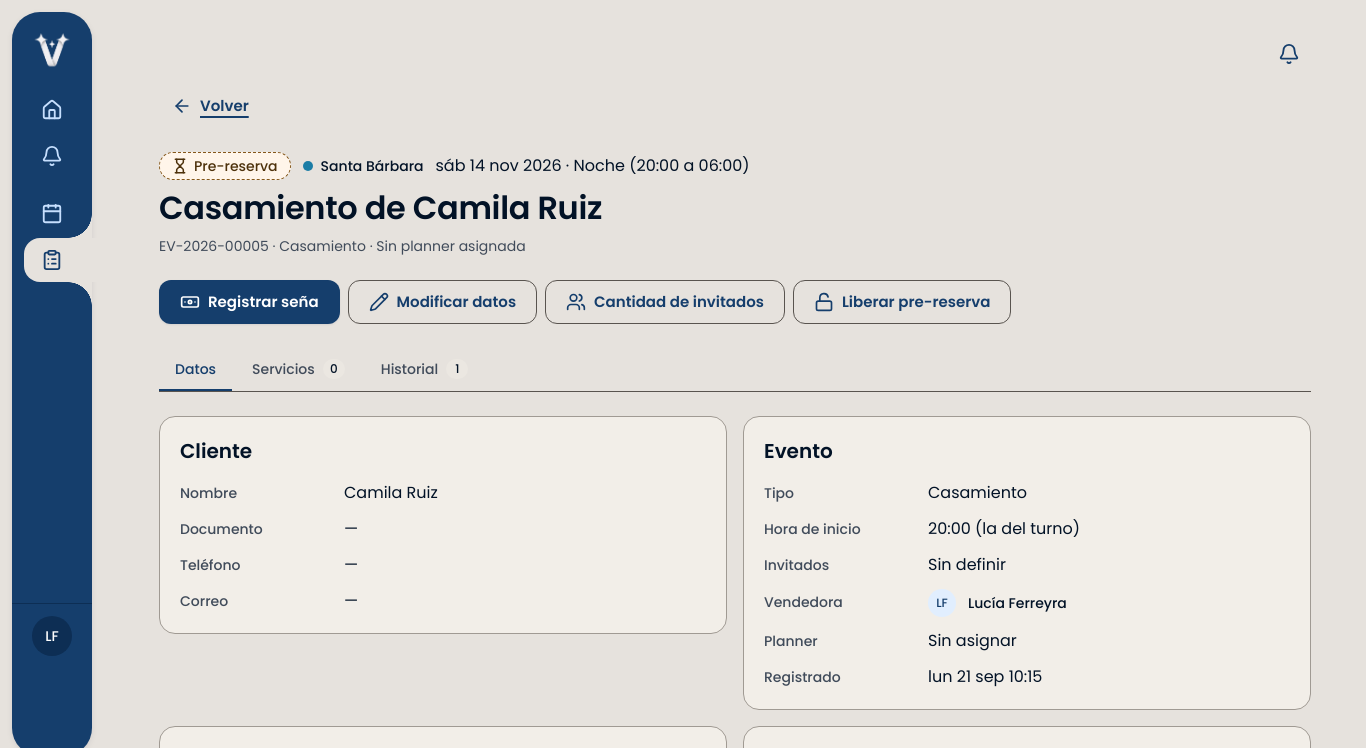
Test: UI-11 · registrar seña › registra la seña y la ficha pasa a Señado
Click the button "Registrar seña" at (249, 302), box [159,280,340,324]
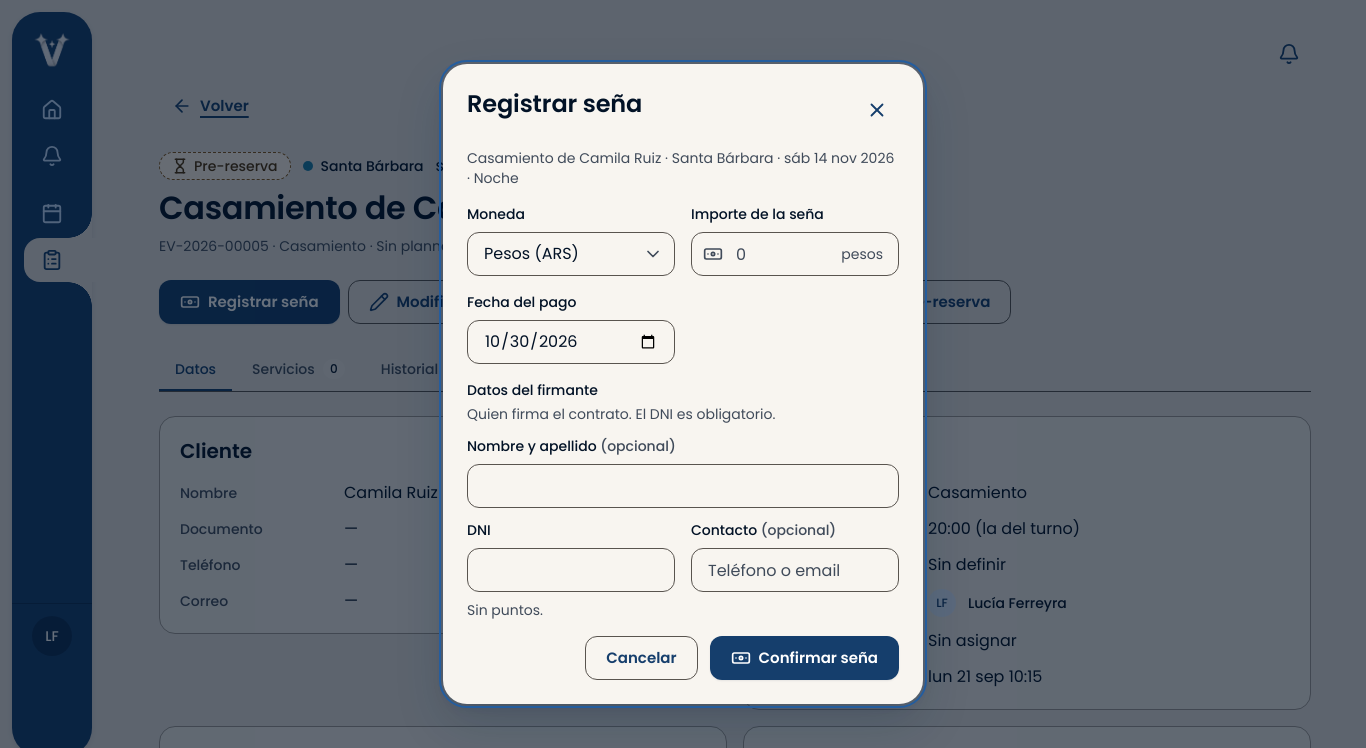
Result: the date field labelled "Fecha del pago" holds "2026-10-30" at [467,320,675,364]
Type "150.000,50" into the field labelled "Importe de la seña" at (795, 254), box [691,232,899,276]
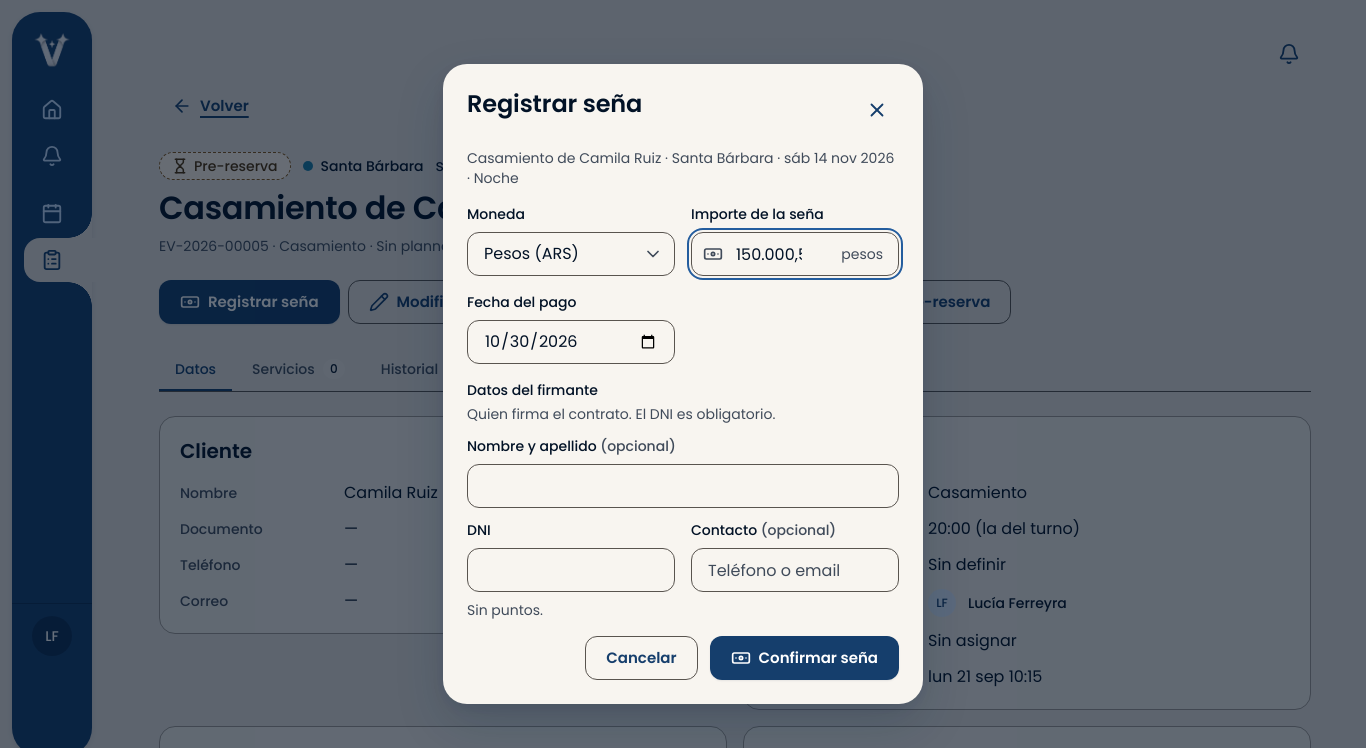
Type "Mariela Ruiz" into the field labelled "Nombre y apellido (opcional)" at (683, 486), box [467,464,899,508]
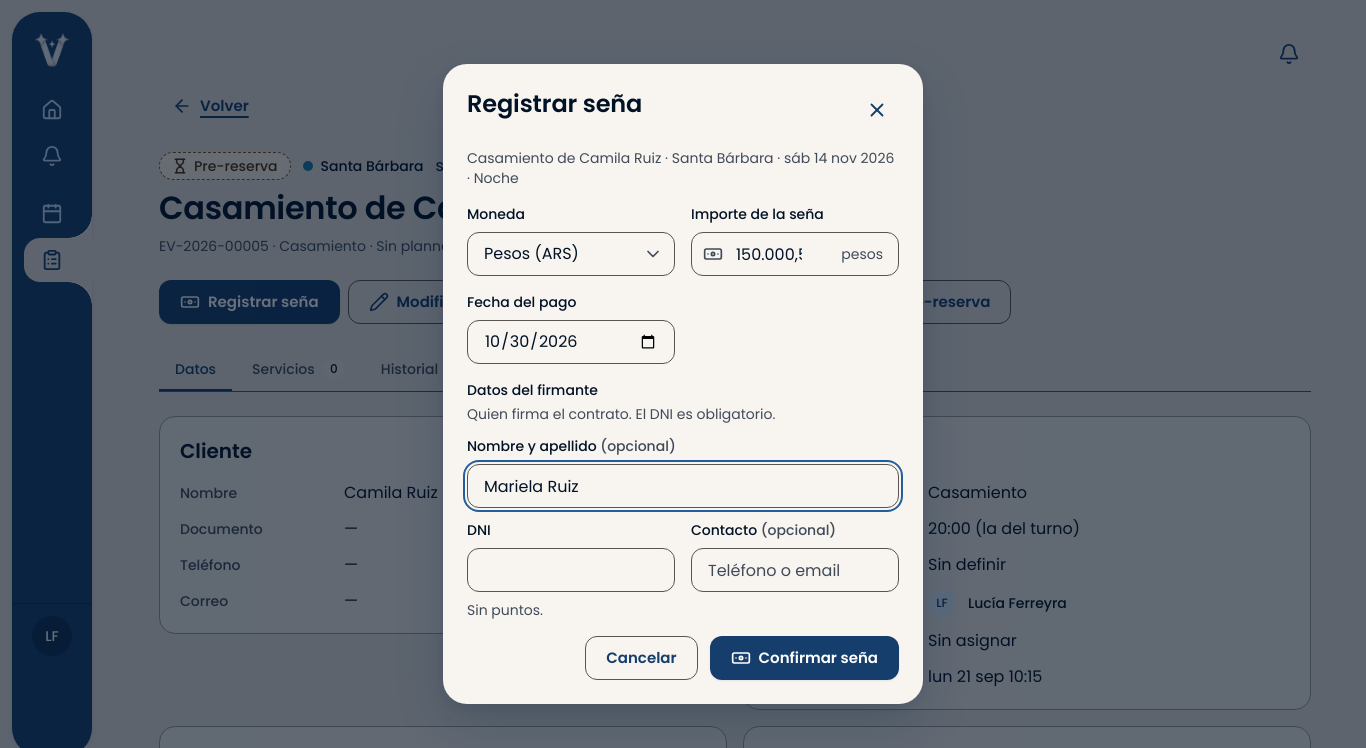
Type "30.111.222" into the field labelled "DNI" at (571, 570), box [467,548,675,592]
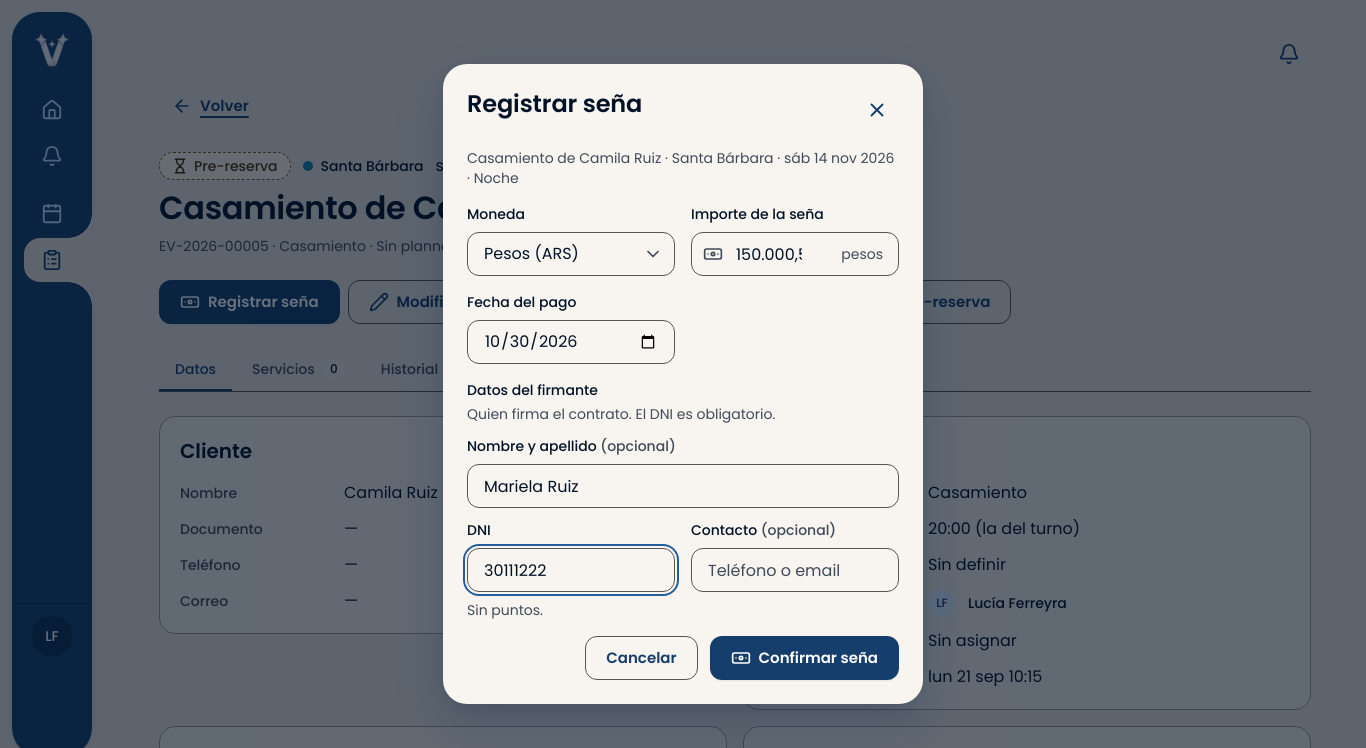
Click the button "Confirmar seña" at (804, 658), box [710,636,899,680]
(page scrolled)
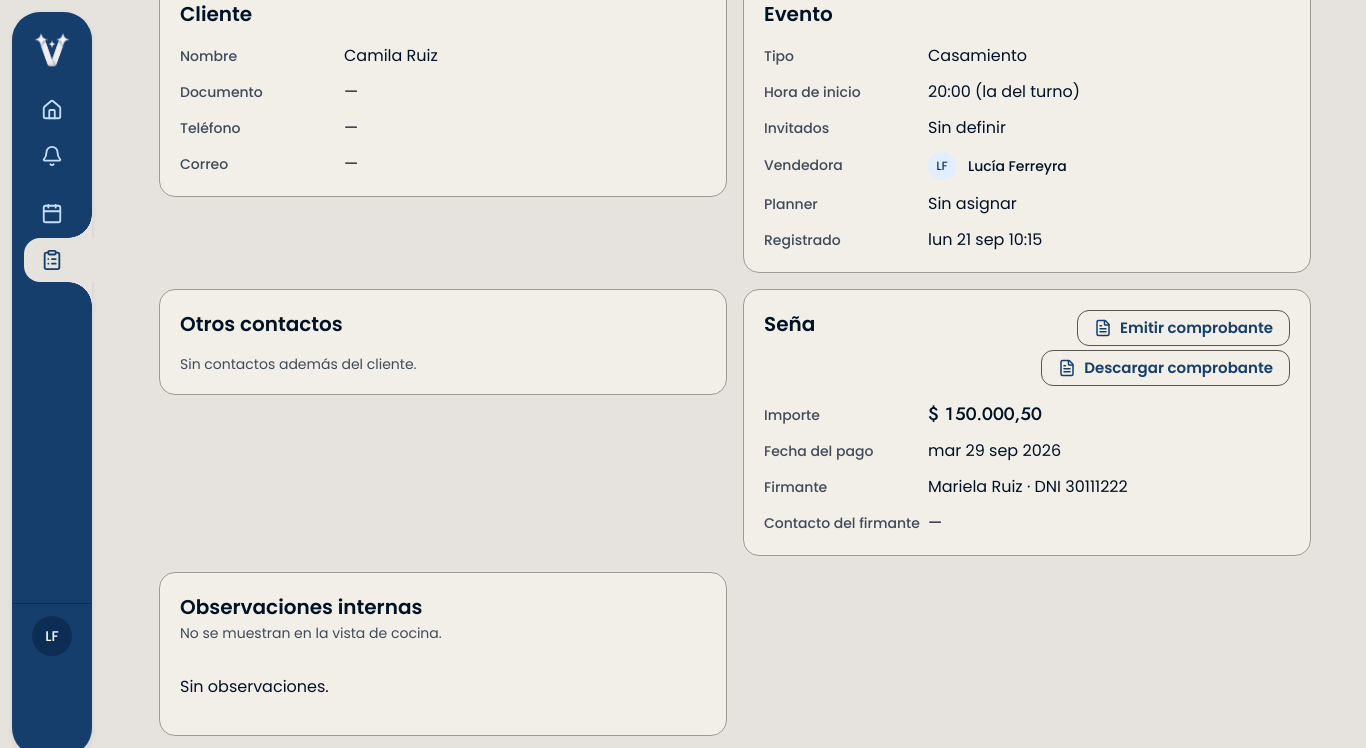
Result: the dialog is gone
Result: the text "$ 150.000,50" is shown at [928,401,1042,427]
Result: the button "Registrar seña" is gone
